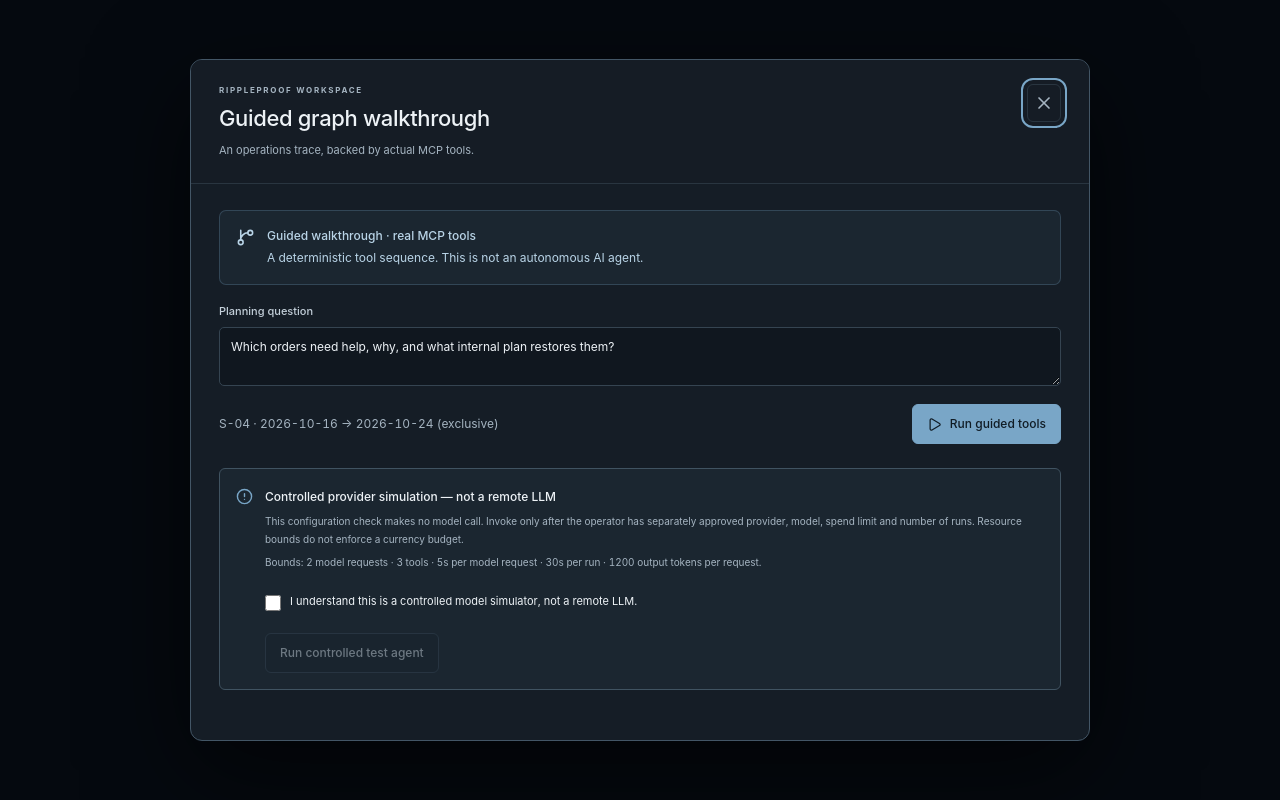
Test: agent capability and intent boundary (mocked transport) › labels controlled provider execution distinctly and disables stale citations
This screenshot has width=1280, height=800.
Click the checkbox labelled "I understand this is a controlled model simulator, not a remote LLM." at (273, 603), box [265, 595, 281, 611]
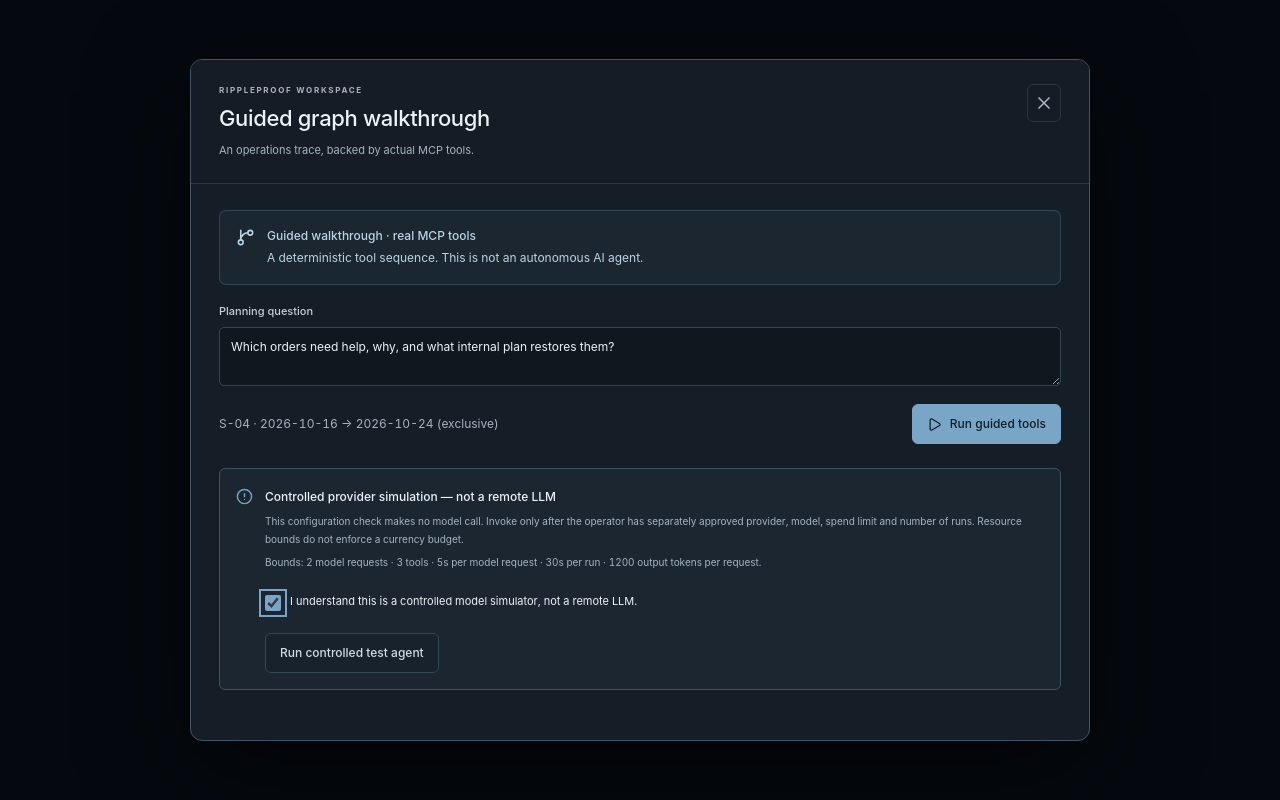
Click the button "Run controlled test agent" at (352, 653), box [265, 633, 439, 673]
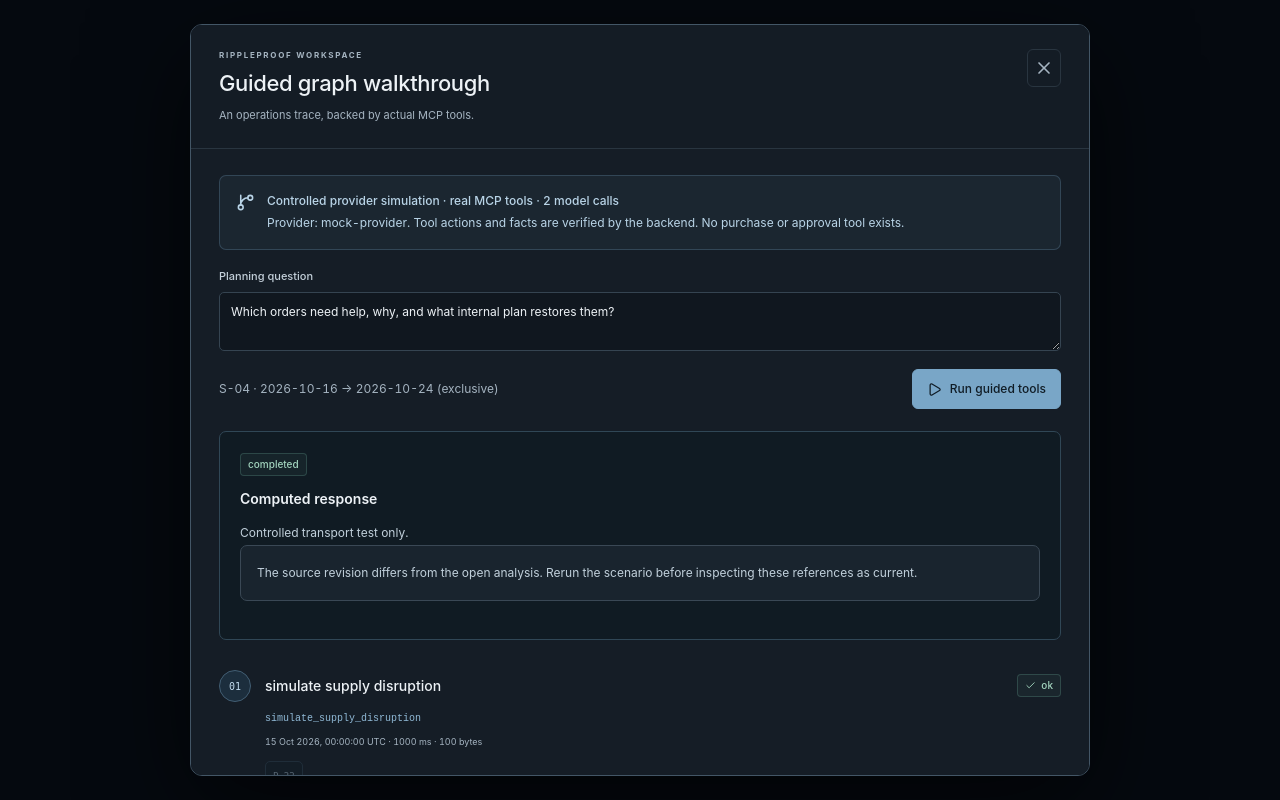
Result: the text "Controlled provider simulation · real MCP tools · 2 model calls" is shown at [267, 193, 619, 208]
